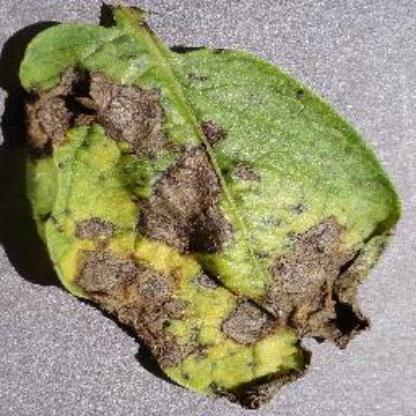Early-Blight: (6, 0, 402, 406)
